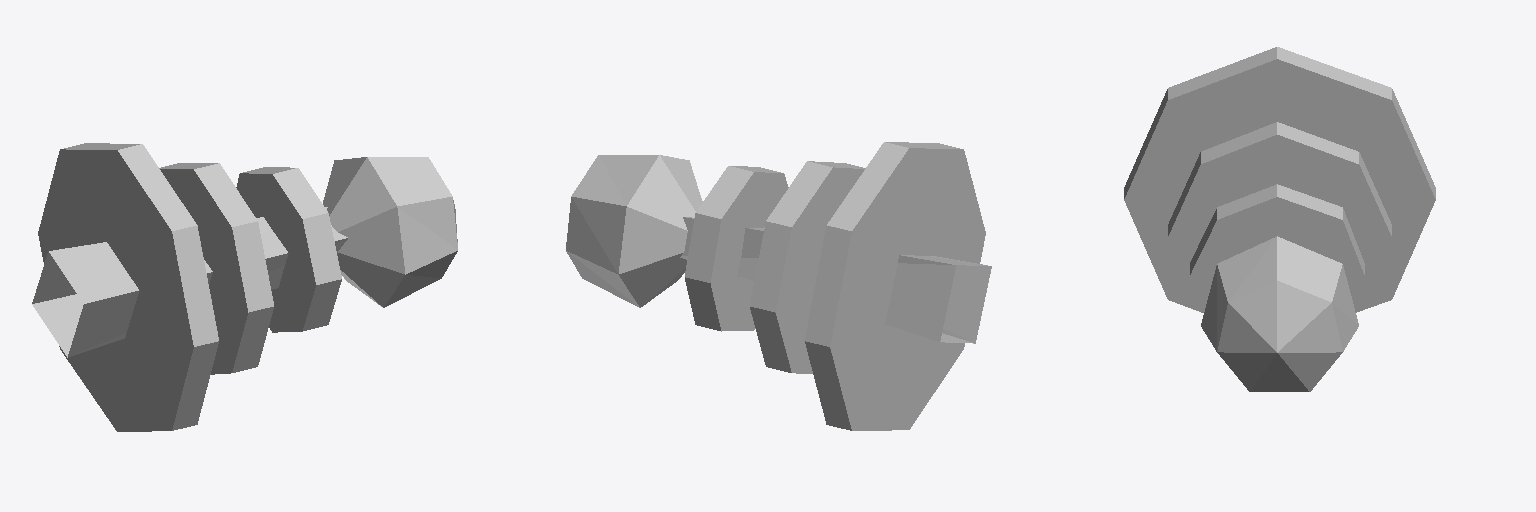
Rendered from Coil.obj.
3 views of the same model, side by side, from view 1: azimuth 30°, elevation 25°; view 2: azimuth 150°, elevation 25°; view 3: azimuth 270°, elevation 25° (orthographic).
Visible parts, largest first — view 1: HeadAssaultron:0; view 2: HeadAssaultron:0; view 3: HeadAssaultron:0.
Boxes of the visible parts, x1=… form: HeadAssaultron:0: x1=32, y1=143, x2=457, y2=431; HeadAssaultron:0: x1=566, y1=142, x2=991, y2=430; HeadAssaultron:0: x1=1124, y1=47, x2=1435, y2=391.
Bounding box in the file's own units: 5.23 × 3.56 × 3.56.